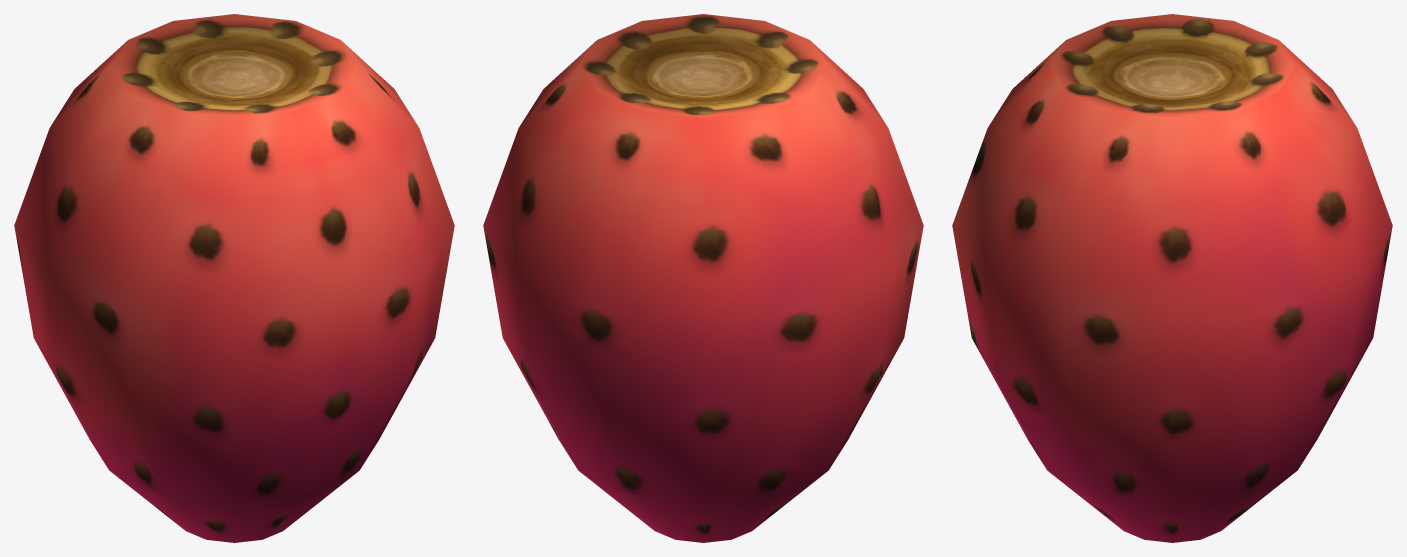
The model's file is PricklyPear_Pink.fbx.
3 renders of one model, left to right at view 1: azimuth 30°, elevation 25°; view 2: azimuth 150°, elevation 25°; view 3: azimuth 270°, elevation 25°, orthographic.
Parts seen in each view (by area): view 1: PricklyPear_Pink; view 2: PricklyPear_Pink; view 3: PricklyPear_Pink.
Boxes of the visible parts, x1,y1,x2,y2 form: PricklyPear_Pink: (14,14,454,542); PricklyPear_Pink: (483,14,923,542); PricklyPear_Pink: (952,14,1392,542).
Size of the model in its own units: 26.57 by 31.42 by 26.57.
1 material, 1 textured.
